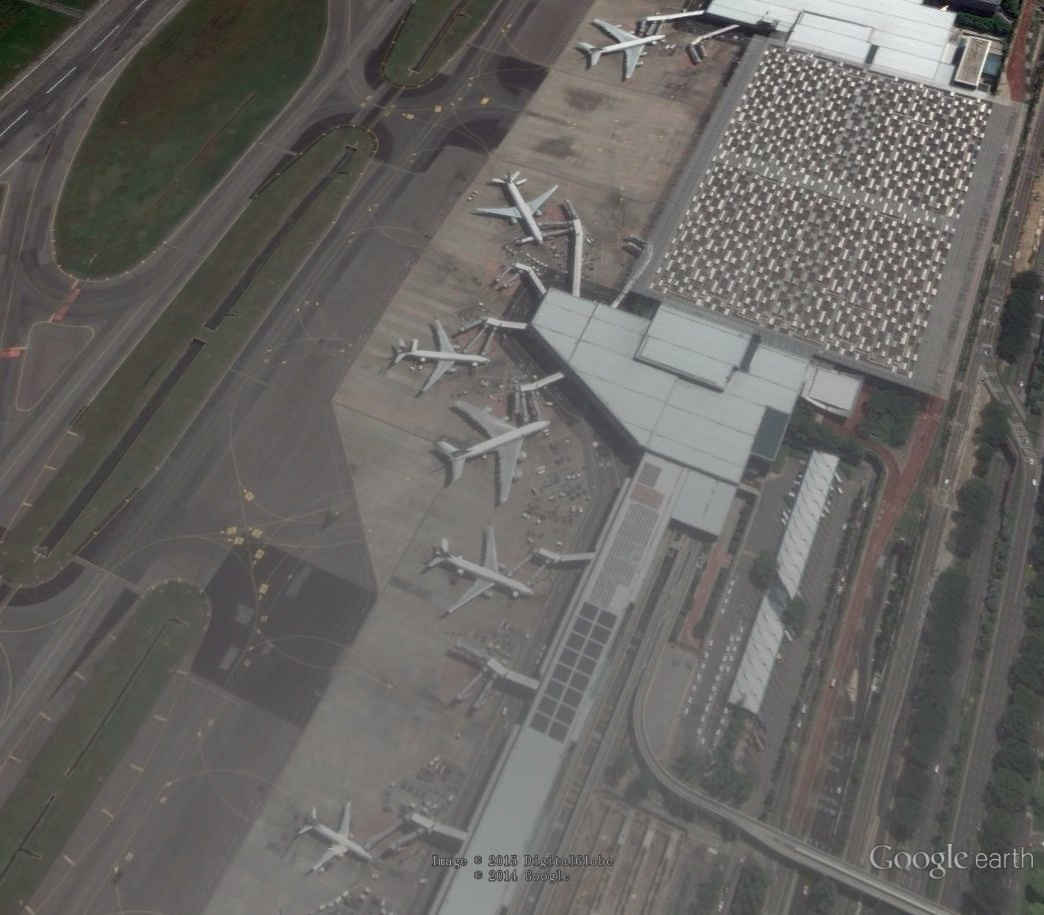aircraft: (429, 399, 556, 510), (418, 523, 538, 622), (390, 315, 496, 397), (471, 171, 565, 250), (291, 799, 378, 876), (574, 18, 669, 84)
